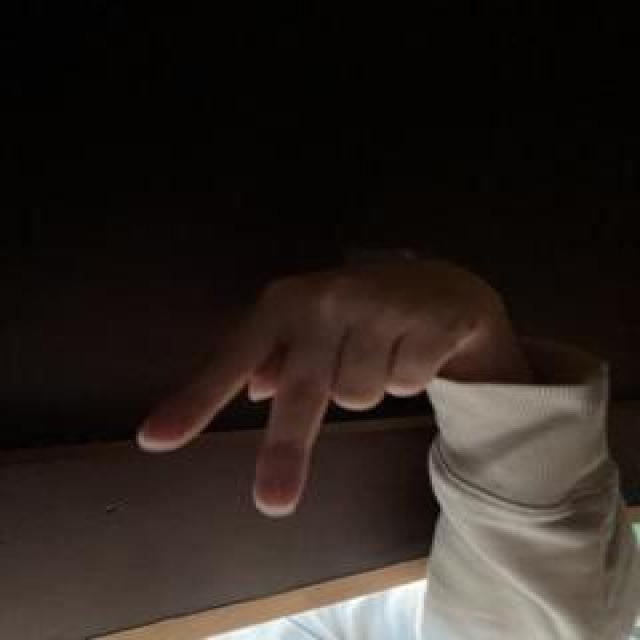P: (129, 248, 524, 520)
